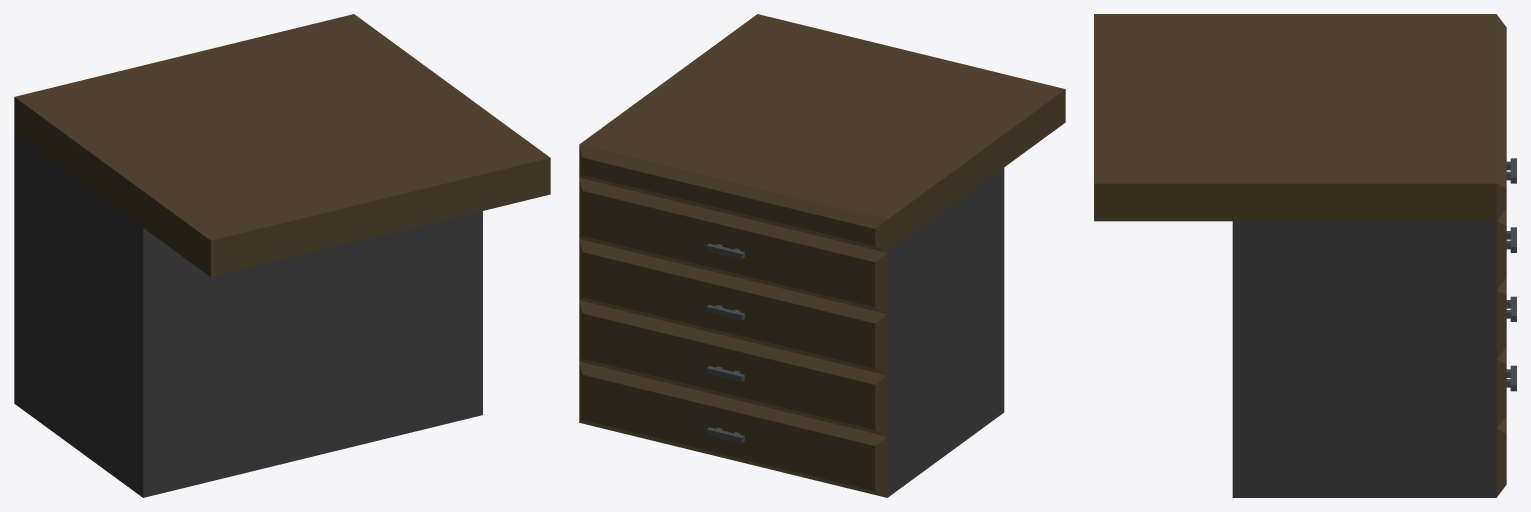
Rendered from PS_Counter01.fbx.
The picture shows the model from 3 angles, left to right: view 1: azimuth 30°, elevation 25°; view 2: azimuth 150°, elevation 25°; view 3: azimuth 270°, elevation 25°; orthographic projection. The views are drawn at different scales.
Parts seen in each view (by area): view 1: PS_Counter01; view 2: PS_Counter01; view 3: PS_Counter01.
Part boxes in pixels (x1,y1,x2,y2): PS_Counter01: (14,14,550,497); PS_Counter01: (579,14,1065,497); PS_Counter01: (1094,14,1516,497).
Size of the model in its own units: 1 by 0.863 by 1.05.
